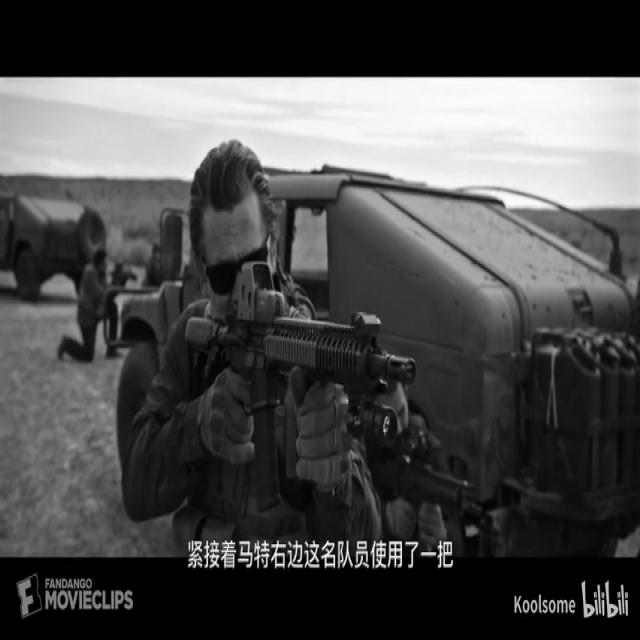Rifle: (110, 166, 467, 570)
